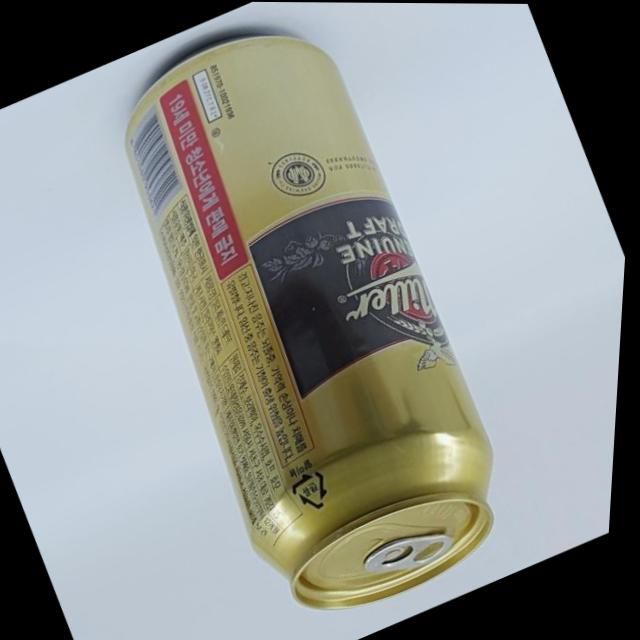metal: (48, 1, 560, 640)
